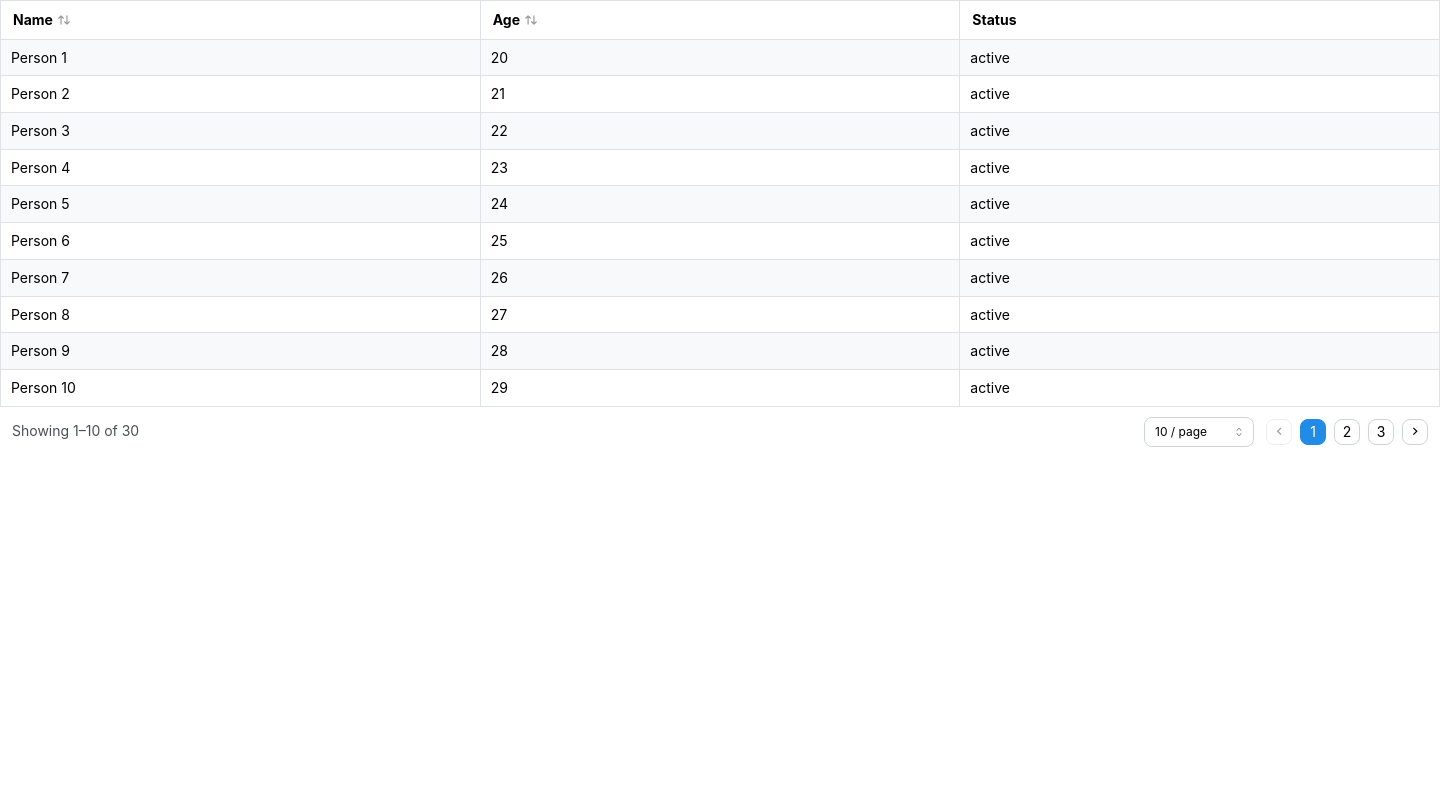
Test case: DataTable › pagination › changes page size when selector is changed
The image size is (1440, 810).
Expected: the text "Person 11" is not shown
What coordinates should you click on to do the following:
click the dropdown named "Rows per page"
I would click on:
 (1199, 432)
Its box is [1144,417,1254,447].
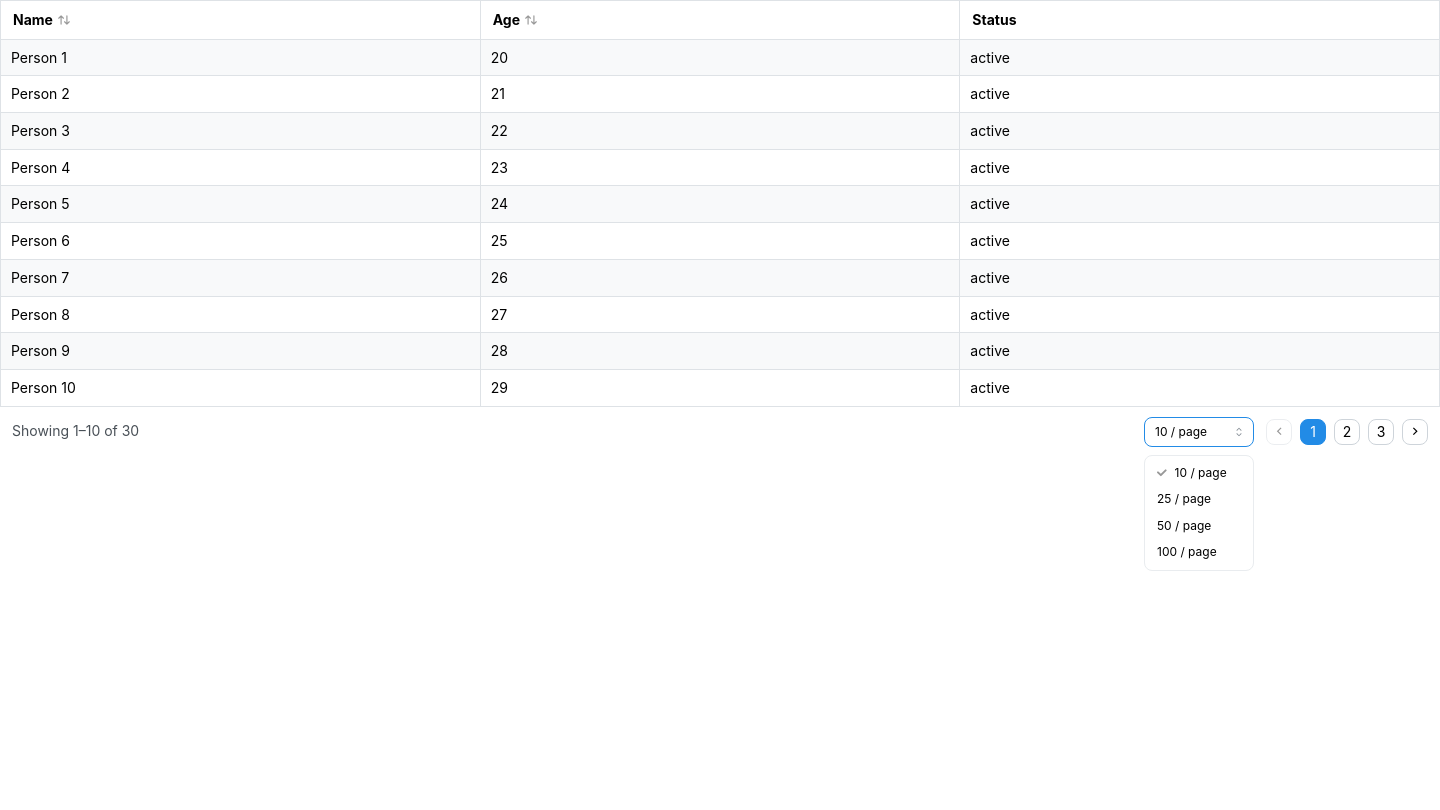
What coordinates should you click on to do the following:
click the option "25 / page"
I would click on:
 (1184, 499)
Its box is [1157,491,1211,506].
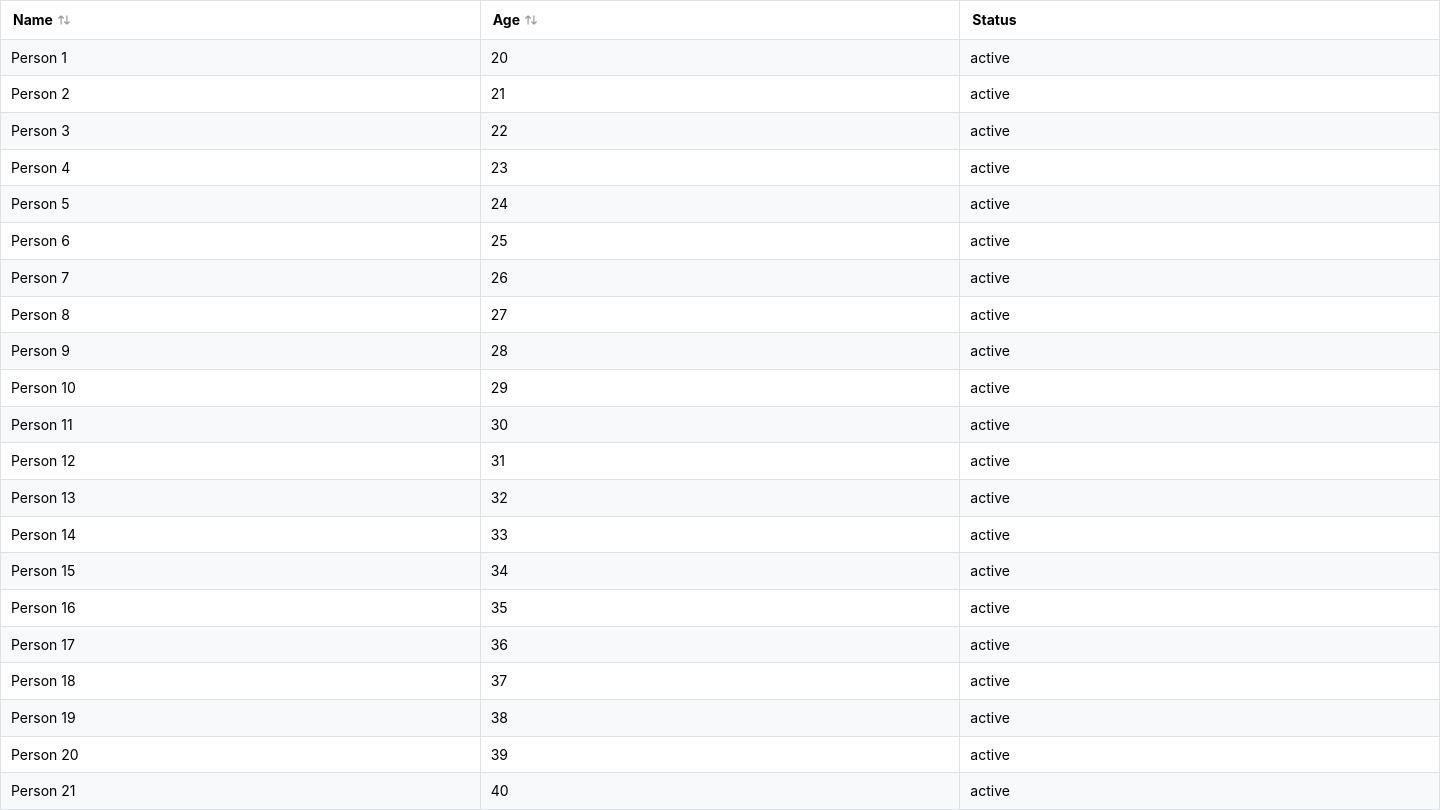
Now the text "Person 11" is shown, box [0,406,480,443]
